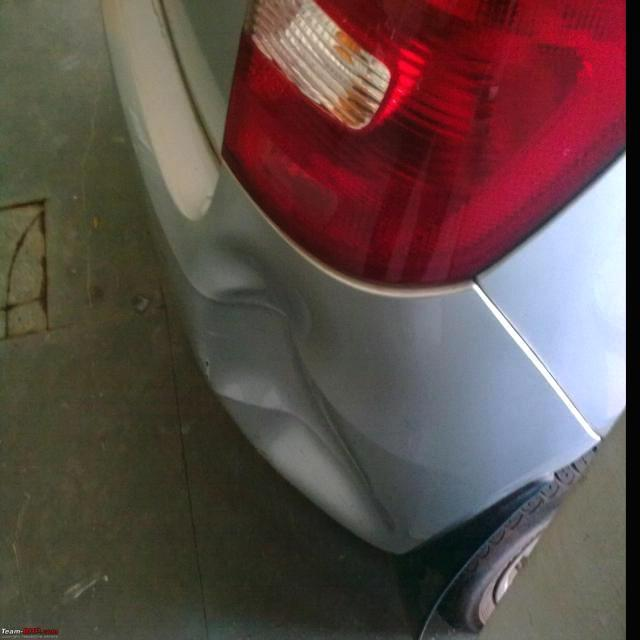minor: (191, 221, 406, 546)
